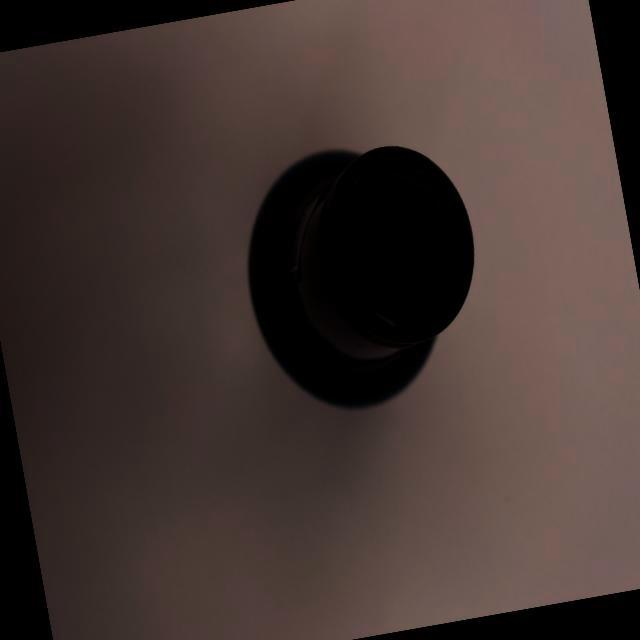glass: (206, 98, 518, 446)
